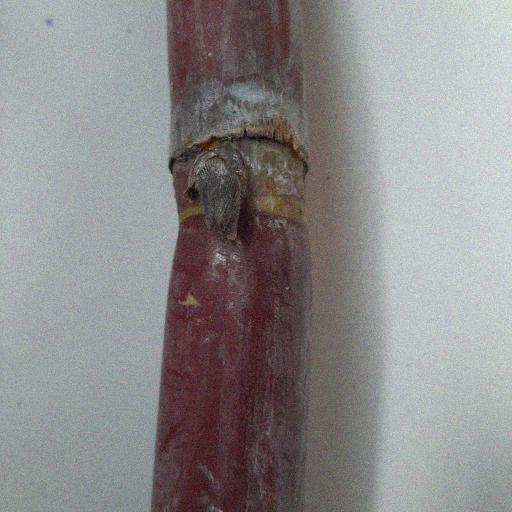Bud: (189, 148, 244, 238)
